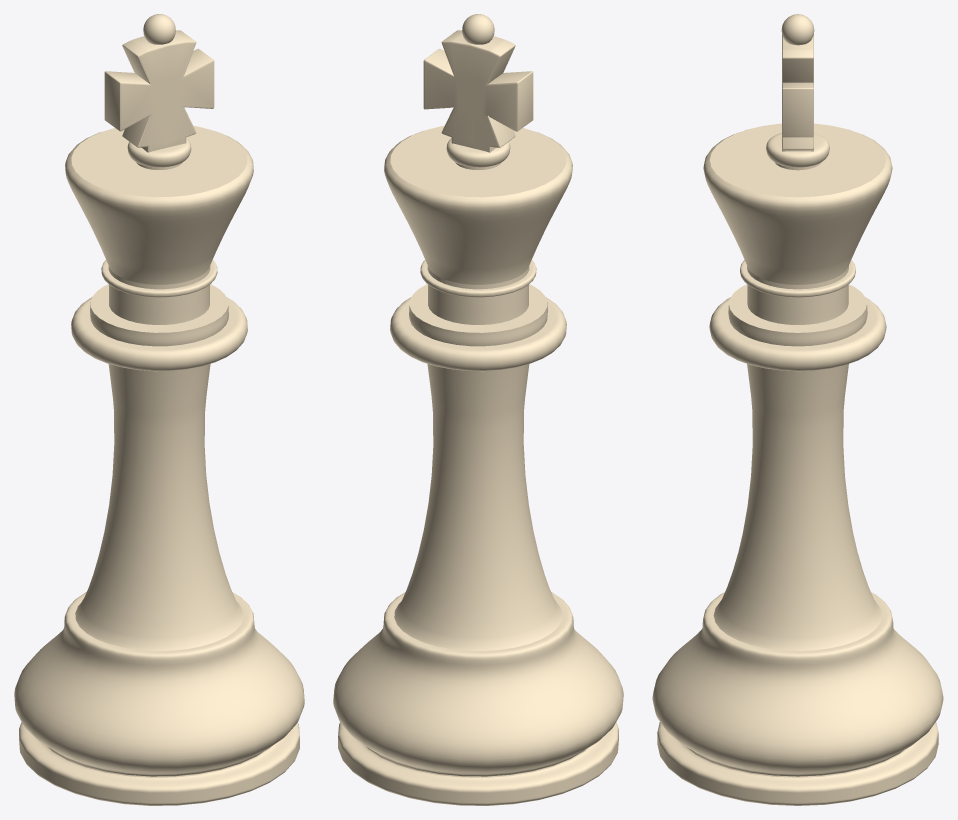
File: King.fbx
3 renders of one model, left to right at view 1: azimuth 30°, elevation 25°; view 2: azimuth 150°, elevation 25°; view 3: azimuth 270°, elevation 25°, orthographic.
Visible parts, largest first — view 1: King; view 2: King; view 3: King.
Part boxes in pixels (x1=…): King: x1=14, y1=14, x2=304, y2=805; King: x1=333, y1=14, x2=623, y2=805; King: x1=652, y1=14, x2=943, y2=805.
Size of the model in its own units: 62.39 by 174 by 62.39.
